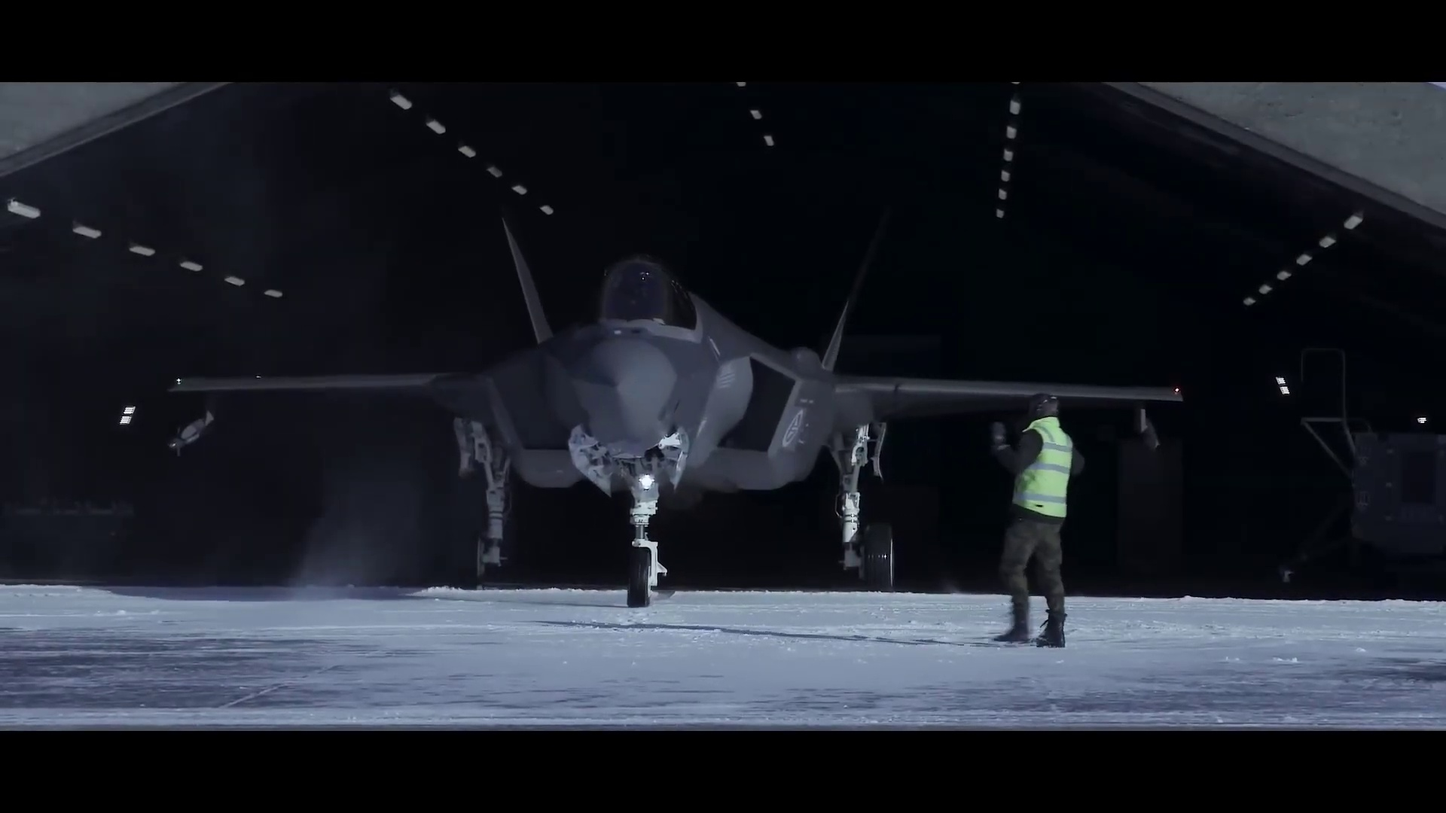F35: (160, 214, 1186, 609)
